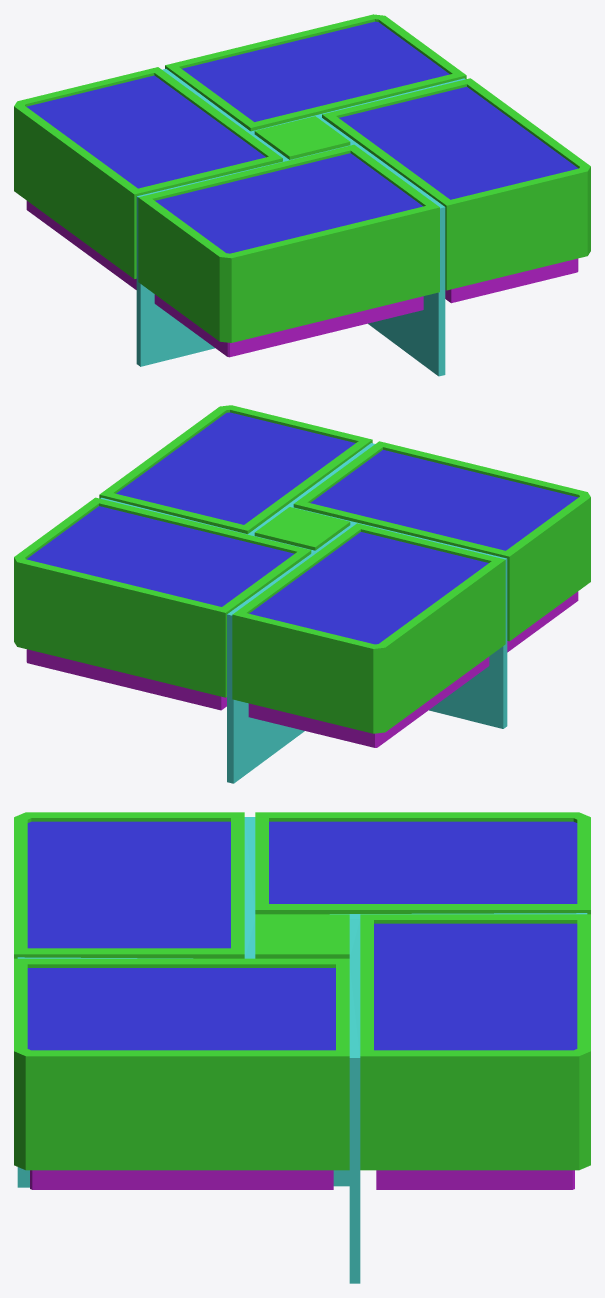
The model's file is Table_04_A.fbx.
The picture shows the model from 3 angles, top to bottom: view 1: azimuth 30°, elevation 25°; view 2: azimuth 150°, elevation 25°; view 3: azimuth 270°, elevation 25°; orthographic projection. The views are drawn at different scales.
Visible parts, largest first — view 1: Table_04_A; view 2: Table_04_A; view 3: Table_04_A.
Part boxes in pixels (<box>): Table_04_A: <box>14,14,590,376</box>; Table_04_A: <box>14,405,590,783</box>; Table_04_A: <box>14,812,590,1283</box>.
Size of the model in its own units: 140 by 61.18 by 140.
